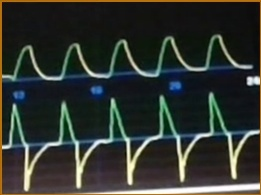Normal Flow: (3, 90, 258, 190)
Normal Volume: (3, 27, 252, 81)
